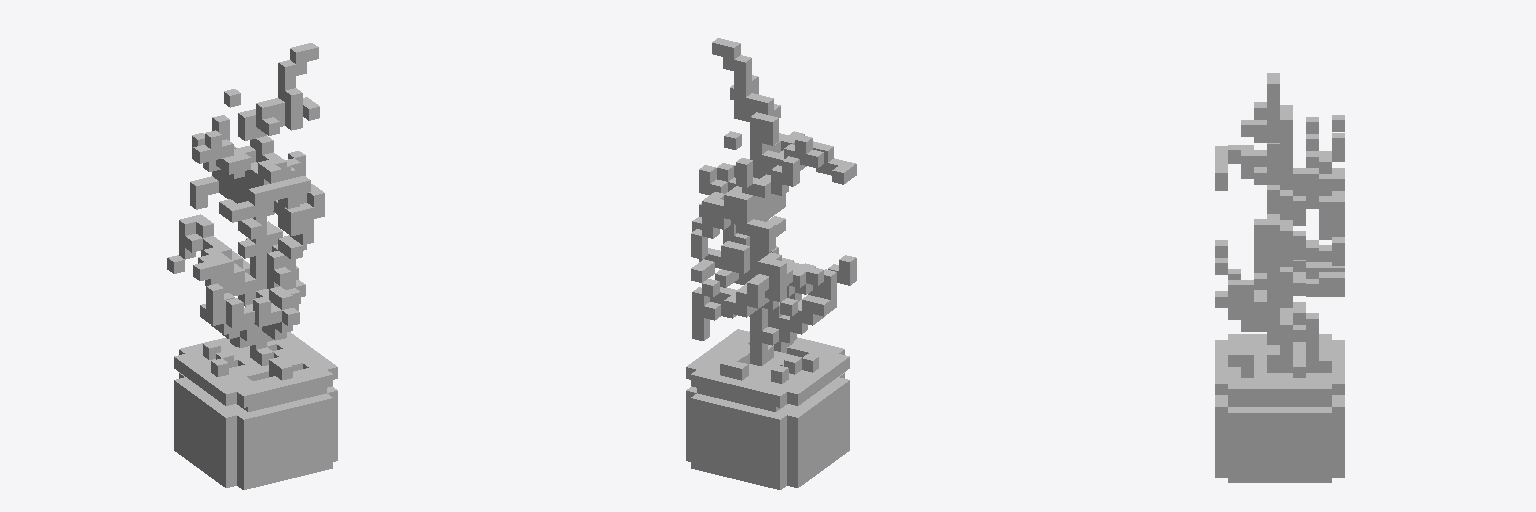
File: kust.obj
3 views of the same model, side by side, from view 1: azimuth 30°, elevation 25°; view 2: azimuth 150°, elevation 25°; view 3: azimuth 270°, elevation 25° (orthographic).
Visible parts, largest first — view 1: object 1; view 2: object 1; view 3: object 1.
Part boxes in pixels (x1,y1,x2,y2): object 1: (167,43,337,489); object 1: (686,38,856,489); object 1: (1215,73,1344,482).
Bounding box in the file's own units: 1 × 3.4 × 1.